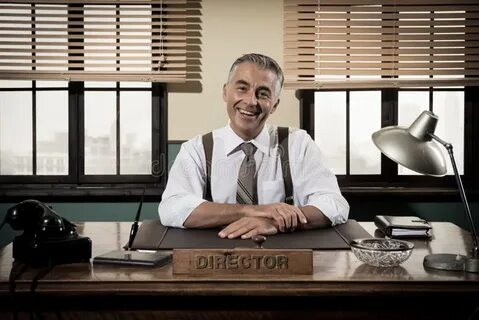awake: (156, 52, 350, 241)
